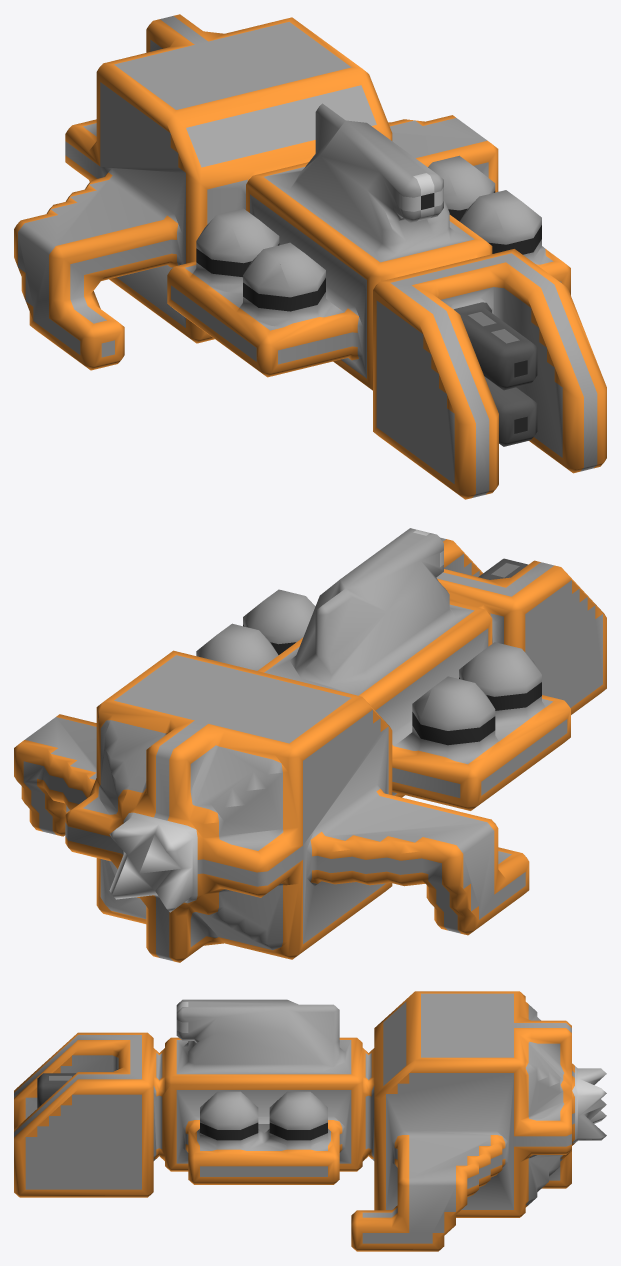
Rendered from ndrc-2-jager-class.obj.
The picture shows the model from 3 angles, top to bottom: view 1: azimuth 30°, elevation 25°; view 2: azimuth 150°, elevation 25°; view 3: azimuth 270°, elevation 25°; orthographic projection. The views are drawn at different scales.
Size of the model in its own units: 33 by 17 by 51.
Materials: 1 (1 with a texture image).
